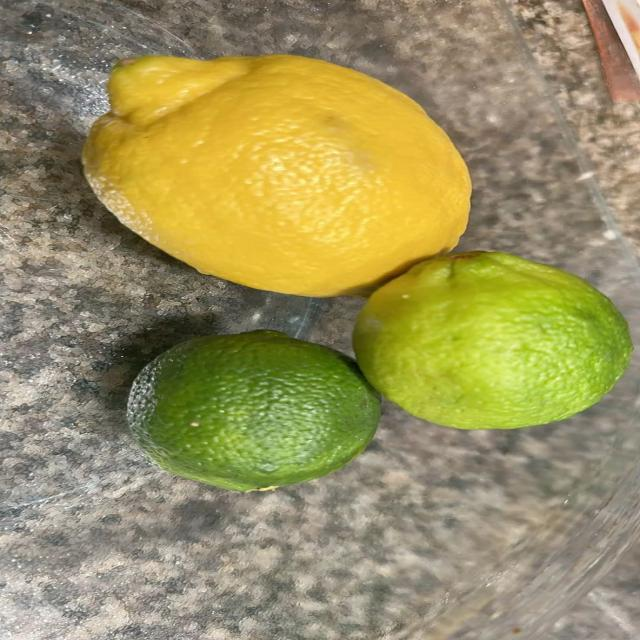lemon: (83, 55, 470, 296), (354, 252, 632, 428), (128, 331, 379, 490)
